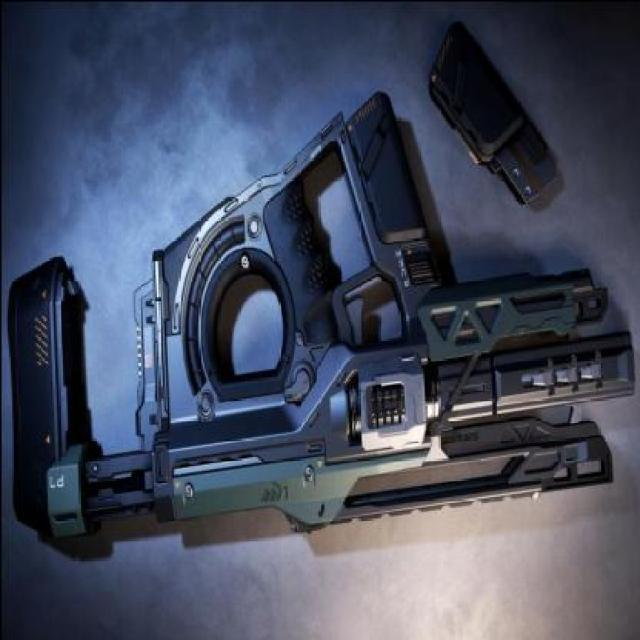weapon: (7, 88, 636, 540)
